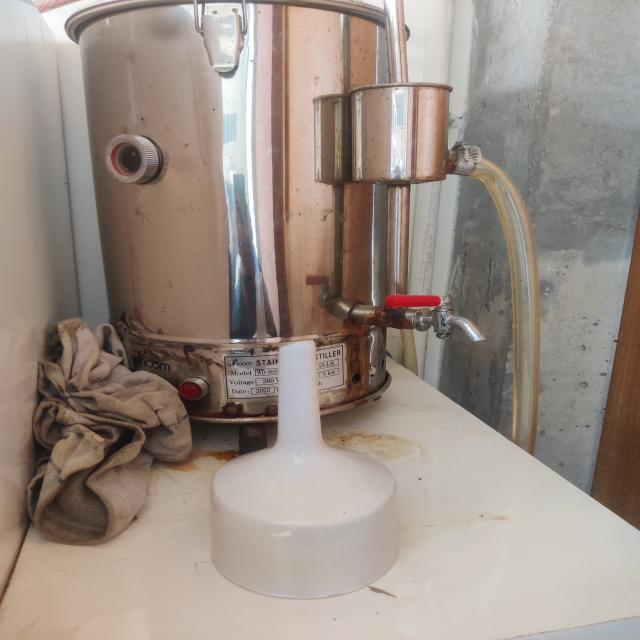Buchner_Funnel: (171, 317, 439, 623)
